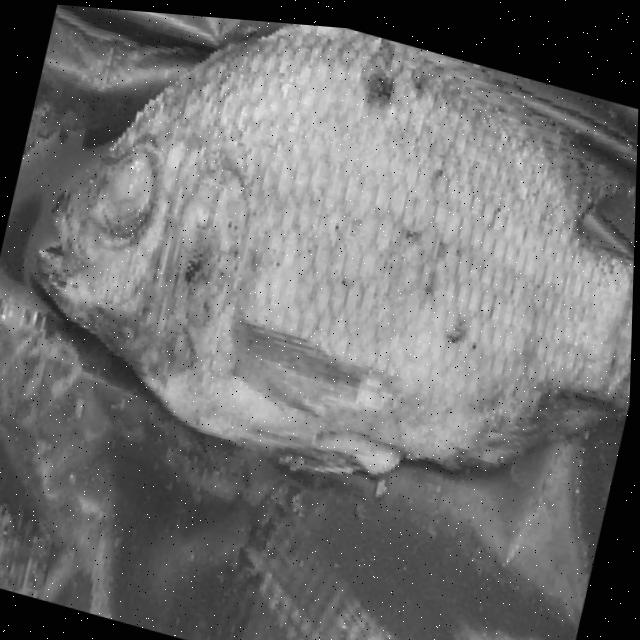Non-Fresh: (0, 0, 640, 538), (86, 114, 183, 265)
